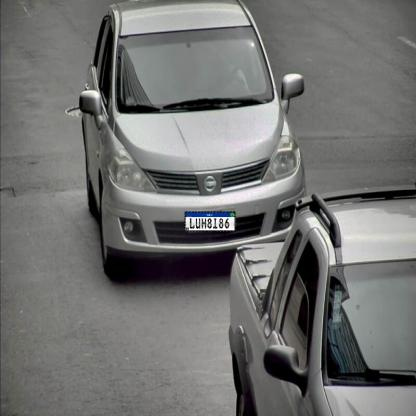PlacaM: (184, 212, 235, 232)
